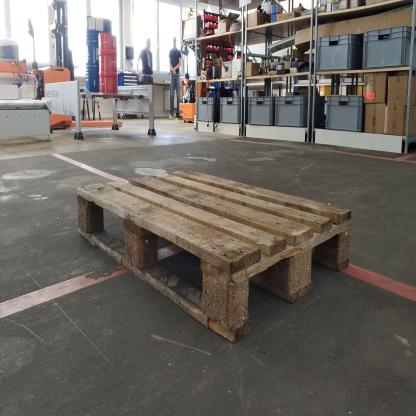BoxFace: (74, 165, 353, 350)
